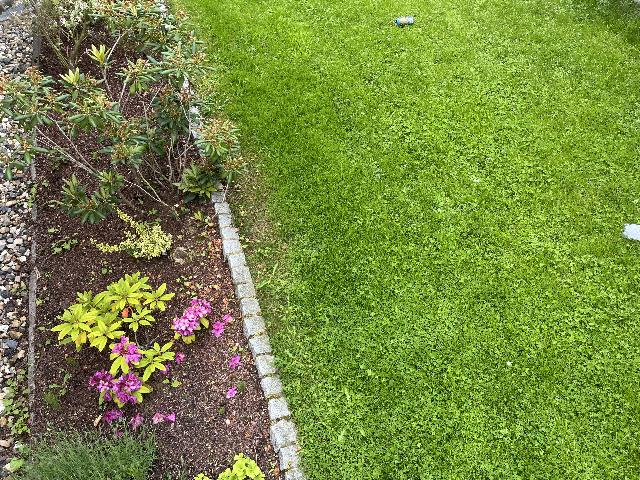can: (396, 15, 413, 25)
plastic_bottle: (621, 222, 640, 241)
